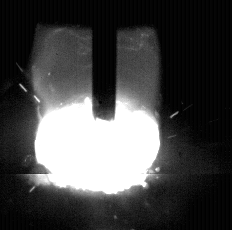arame: (93, 0, 117, 119)
poca: (34, 0, 160, 230)
